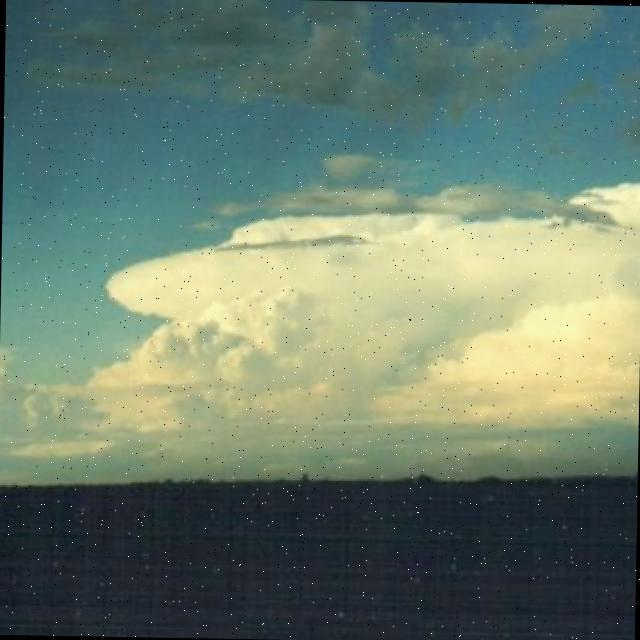Cb: (1, 13, 640, 471)
